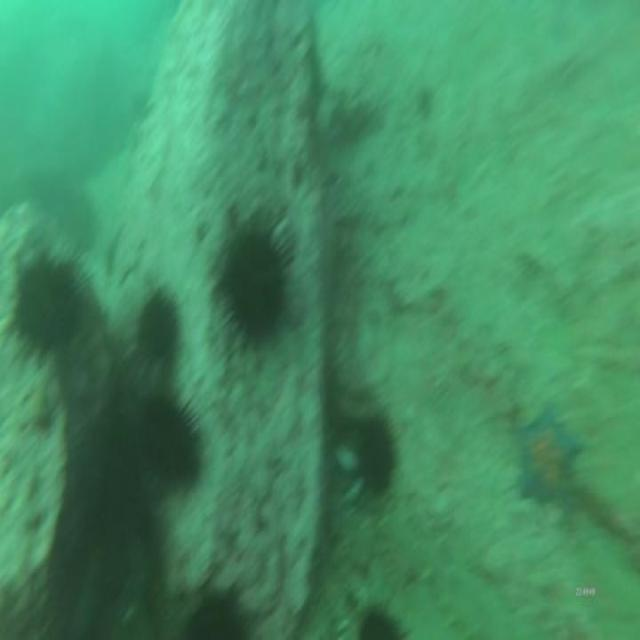echinus: (216, 212, 297, 348), (9, 239, 88, 368), (136, 387, 208, 498), (349, 403, 406, 507), (178, 577, 258, 640), (133, 283, 185, 371), (352, 596, 410, 640)
starfish: (512, 396, 586, 522)
